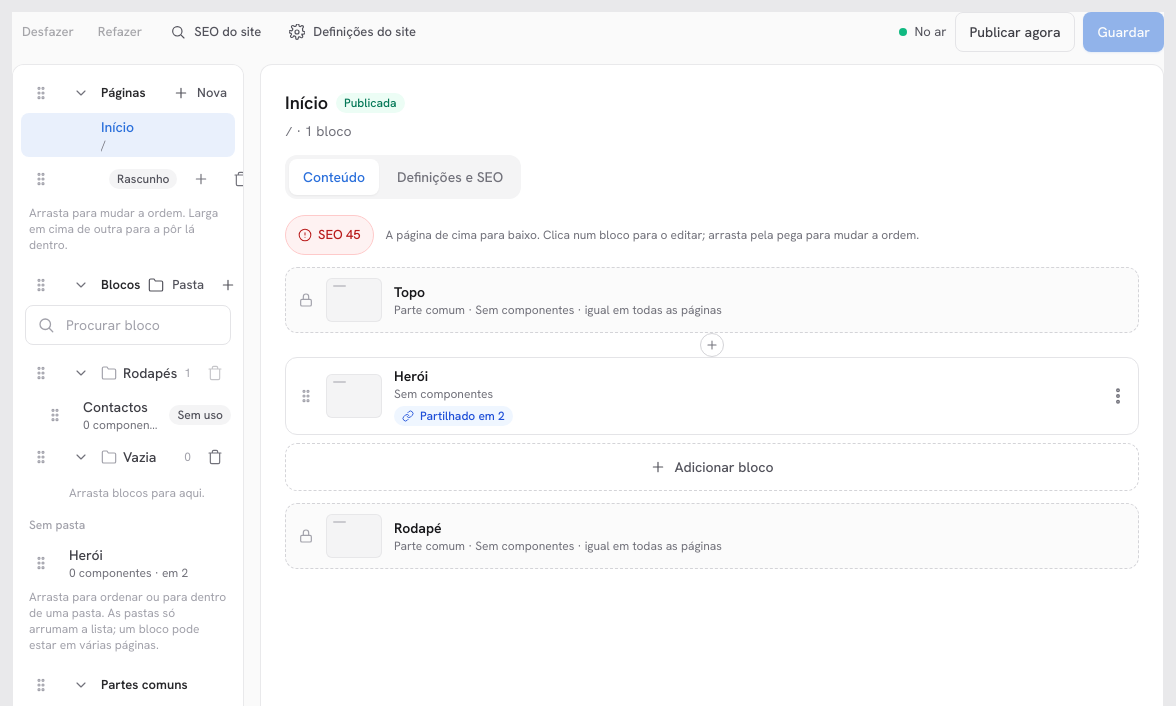
Scenario: Paginas · lista lateral › 'Nova' cria uma página de primeiro nível com os blocos comuns, abre-a e o desfazer tira-a
Click the button with aria-label "Nova página" at (200, 93), box [165,73,235,113]
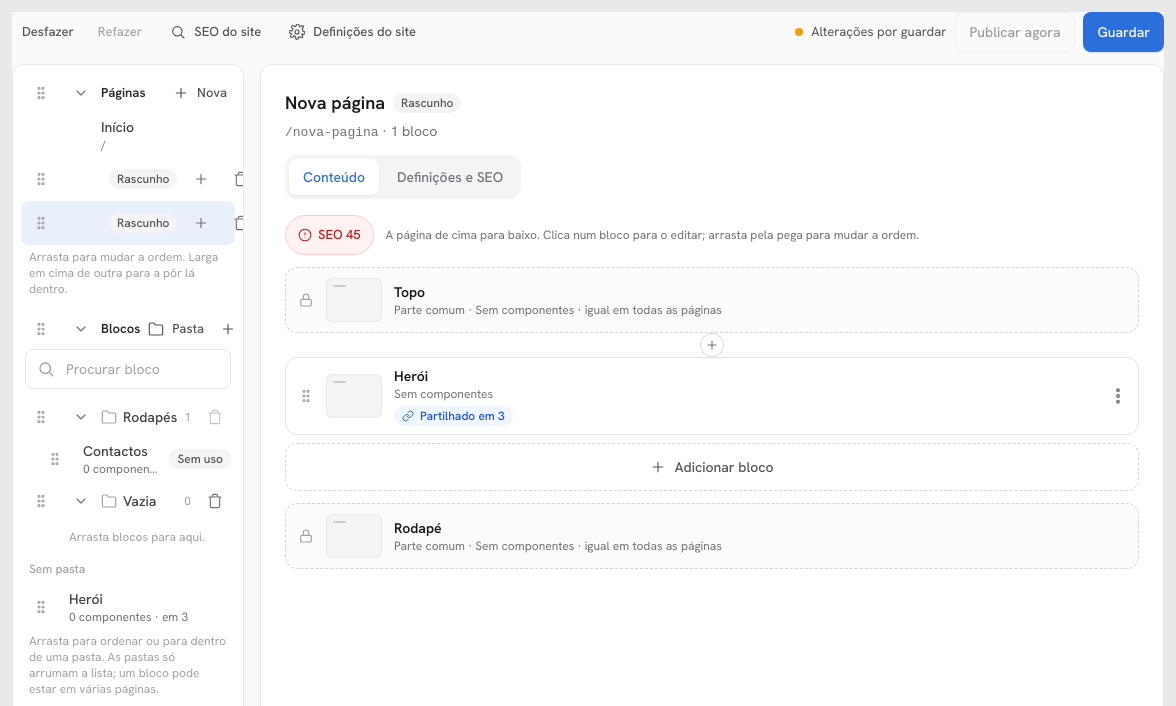
Expected: the text "/nova-pagina · 1 bloco" is shown, [285,122,437,140]
Now the heading "Nova página" is shown, box [285,89,385,117]
Click the button "Desfazer" at (48, 32), box [12,12,84,52]
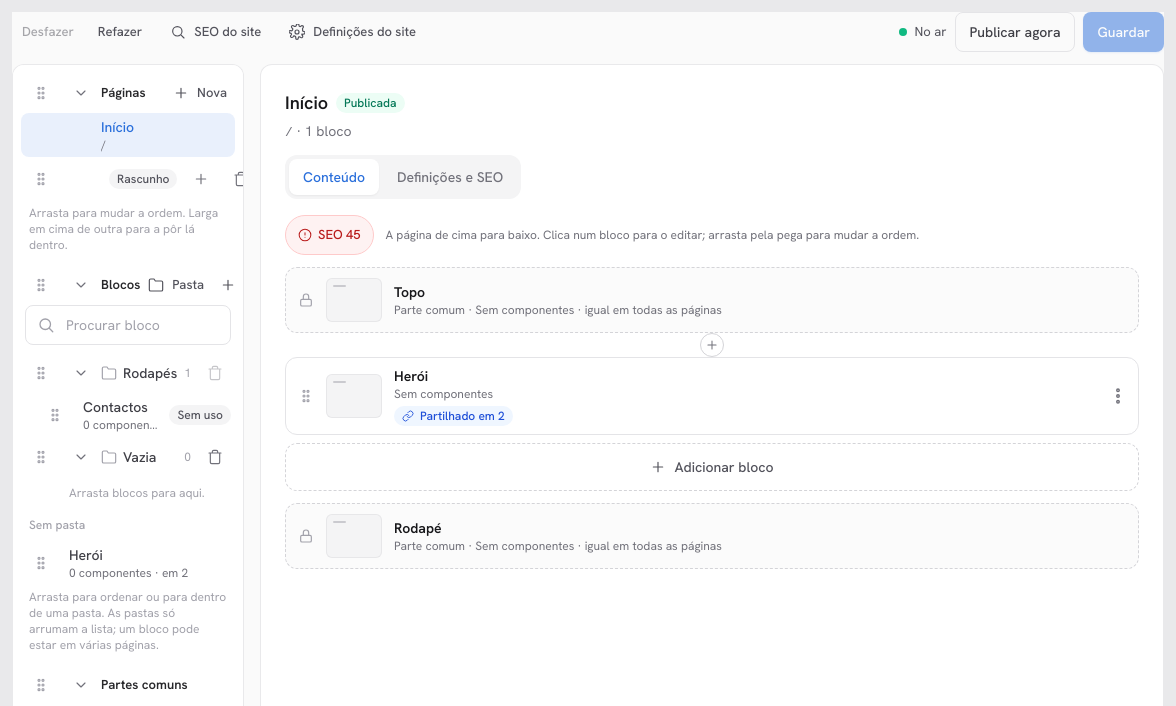
Now the text "/nova-pagina" is gone
